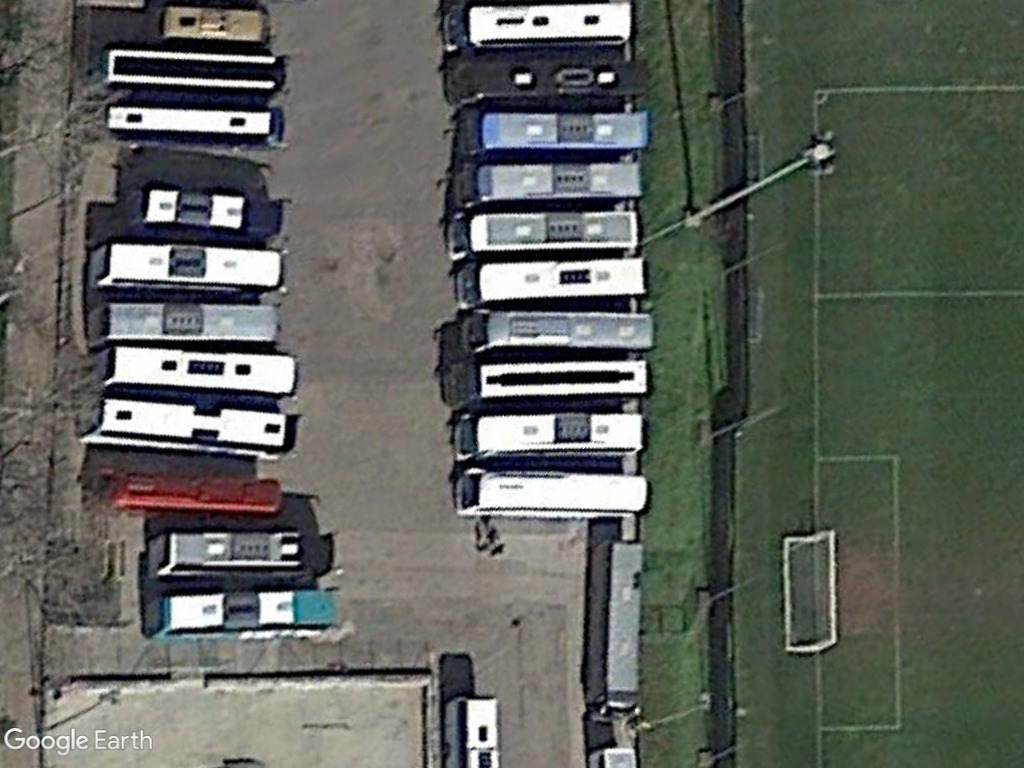bus: (72, 395, 294, 457), (453, 252, 647, 311), (443, 50, 649, 105), (139, 586, 334, 644), (86, 239, 287, 294), (451, 469, 651, 521), (88, 343, 300, 392), (452, 410, 647, 463), (449, 159, 645, 211), (446, 208, 641, 260), (441, 358, 652, 406), (86, 298, 284, 348), (454, 108, 654, 156), (141, 524, 314, 579), (98, 45, 286, 94), (440, 1, 635, 48), (454, 310, 655, 355), (105, 101, 286, 146), (127, 186, 250, 236), (143, 5, 275, 47)
longvehicle: (585, 531, 645, 768)
